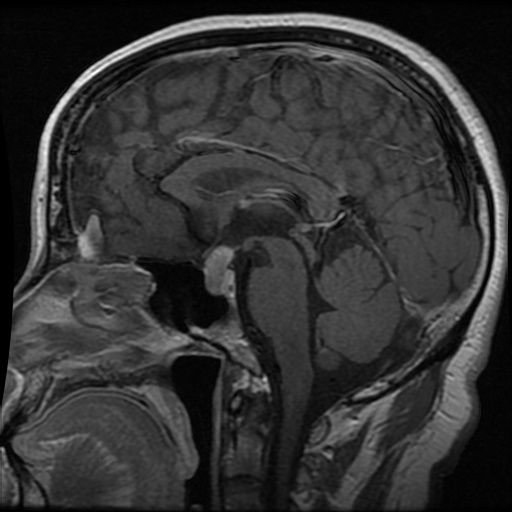pituitary: (204, 246, 234, 294)
